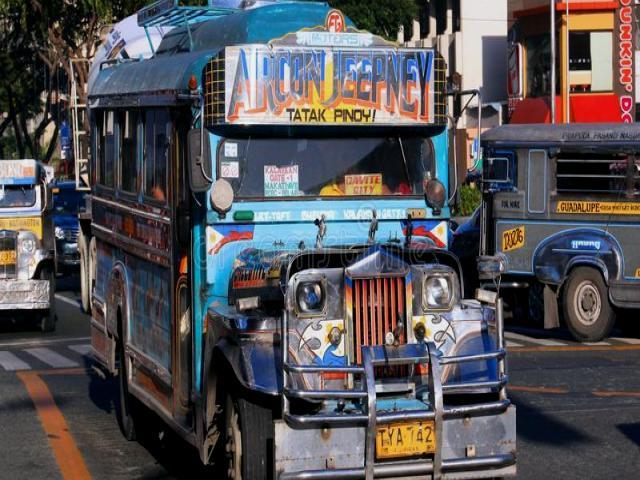jeepney: (74, 27, 518, 480)
